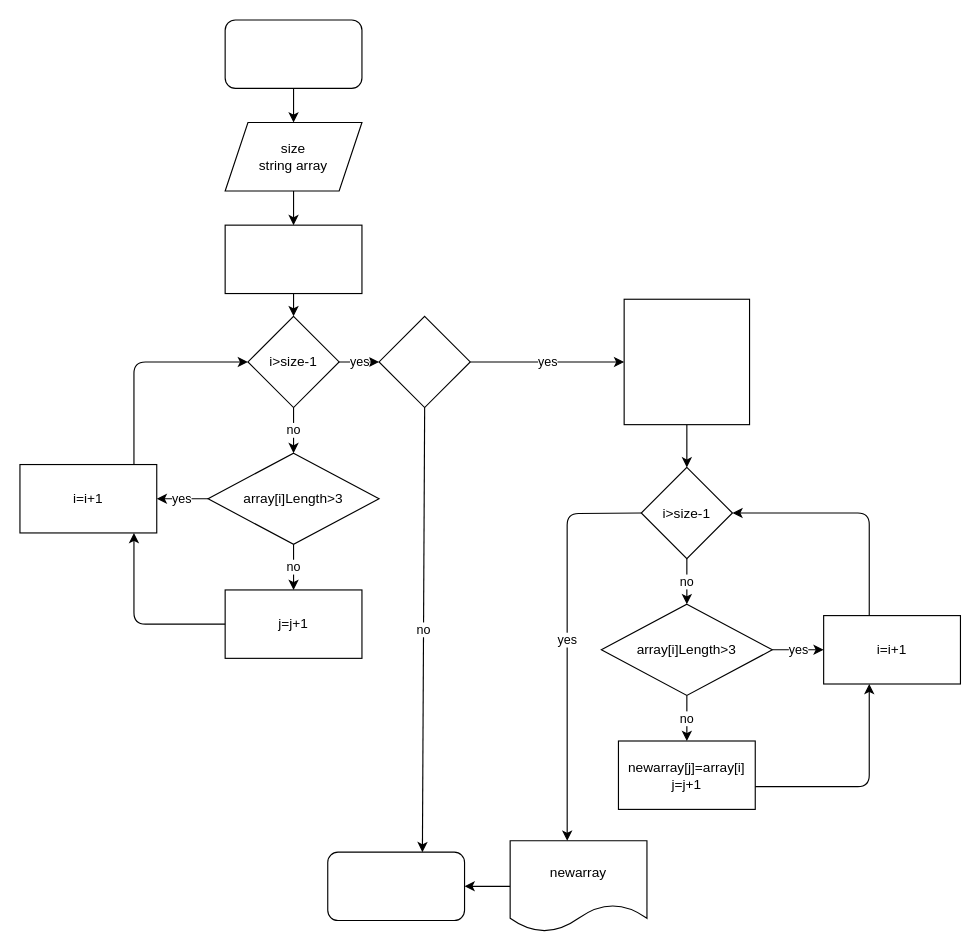
Some shapes in this 980 by 952 pixel diagram are drawn without their labels. Each missing label, with the centre of its shape:
"end" goes at [396,886].
"j>0" goes at [424,361].
"newarray[j] i=0 j=0" goes at [686,361].
"start" goes at [293,53].
"string newarray i=0 j=0" goes at [293,259].
